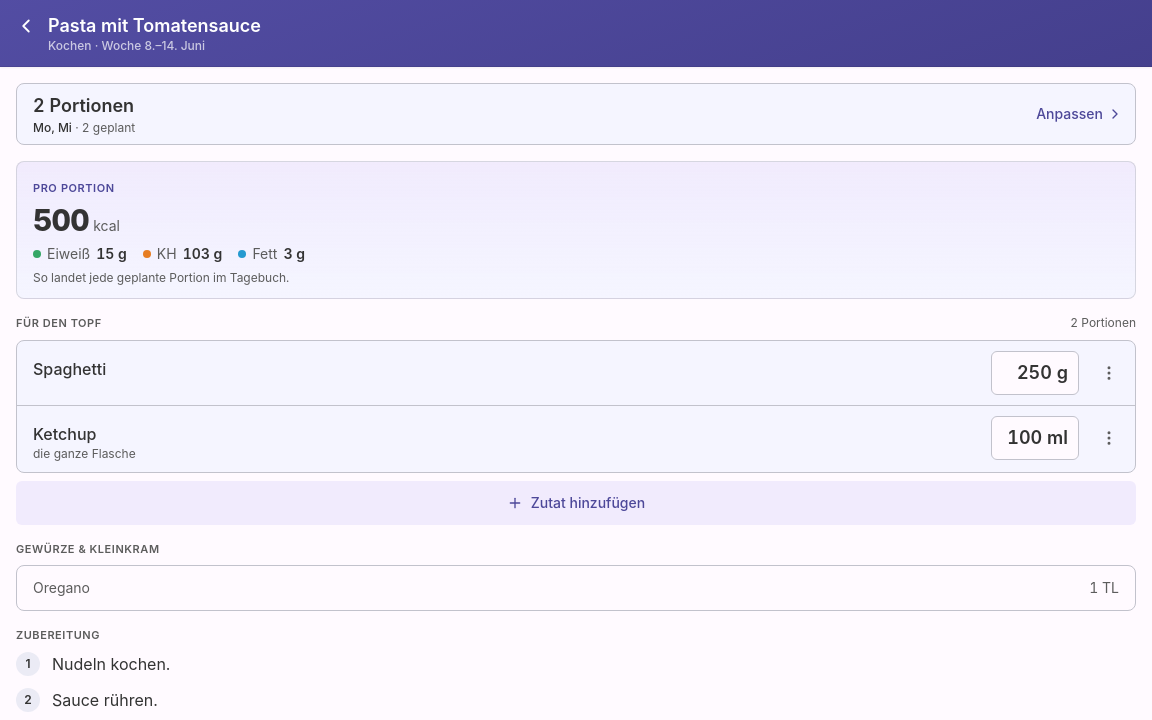
Test: CookingScreen › recomputes the pot when a meal is deselected or someone eats along
Click the button "2 Portionen Mo, Mi · 2 geplant Anpassen": {"x": 84, "y": 106} top-left (17, 84), bottom-right (1135, 144)
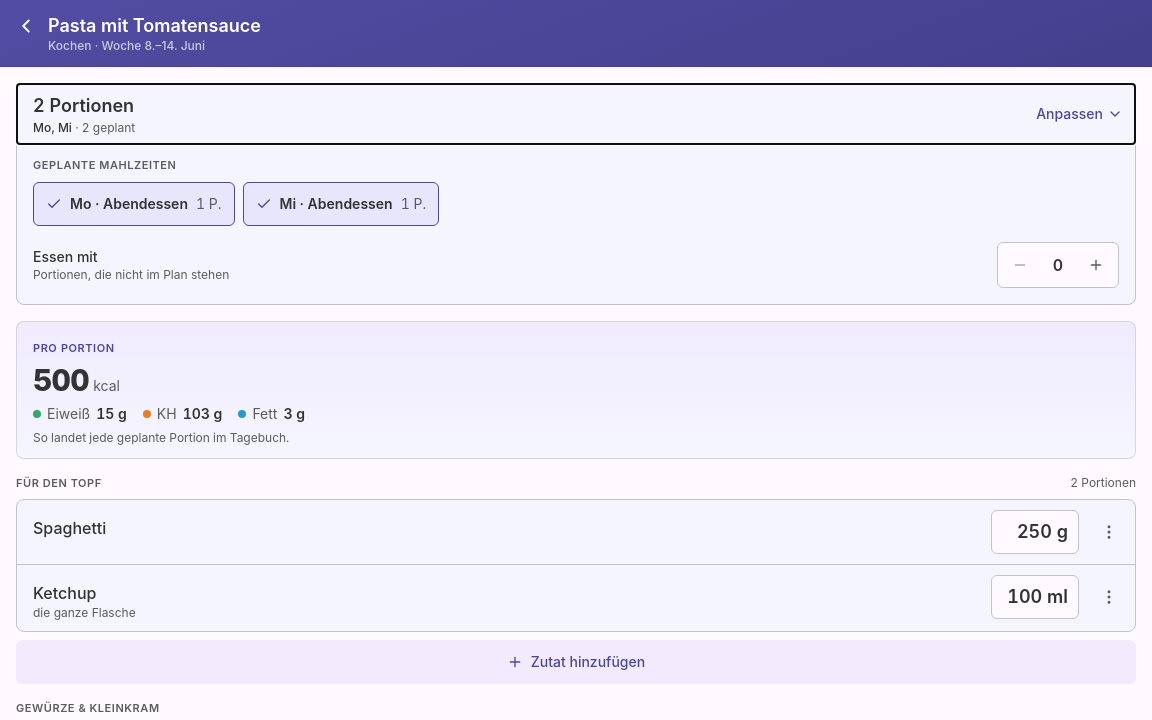
Click the button "Mo · Abendessen 1 P.": {"x": 134, "y": 204} top-left (33, 182), bottom-right (234, 226)
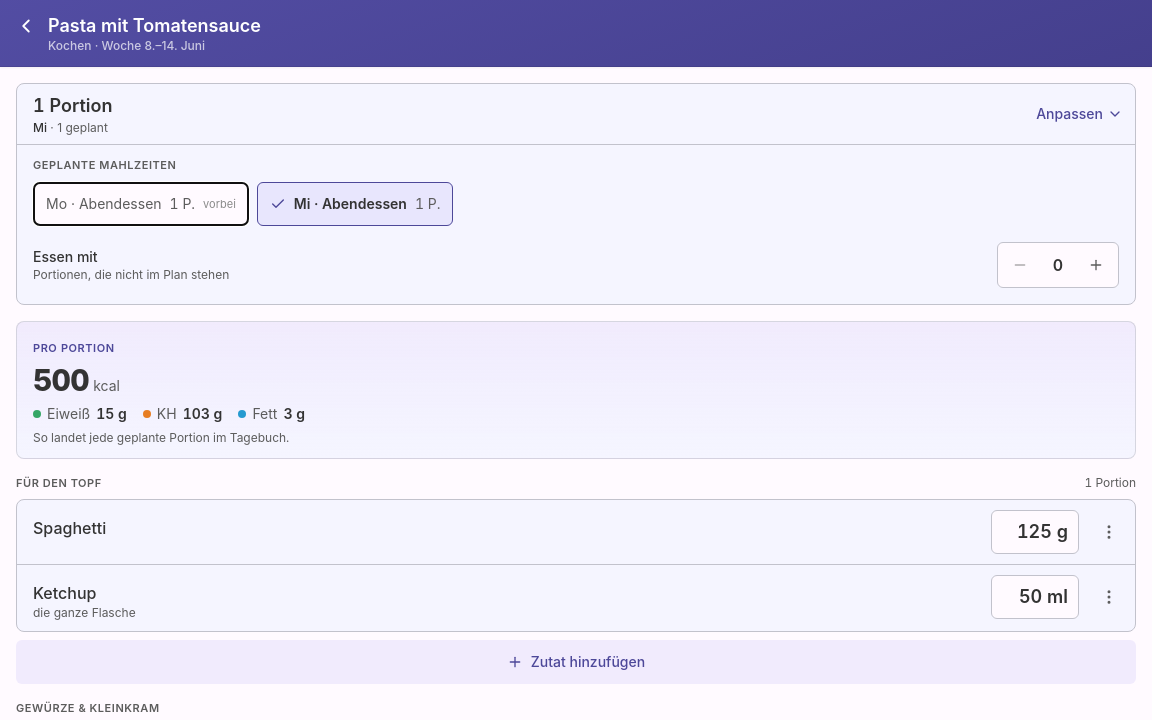
Expected: the button with aria-label "Menge von Ketchup ändern" reads "50 ml", top-left (991, 575), bottom-right (1079, 619)
Click the button named "Eine Portion mehr": {"x": 1096, "y": 264} top-left (1074, 242), bottom-right (1118, 286)
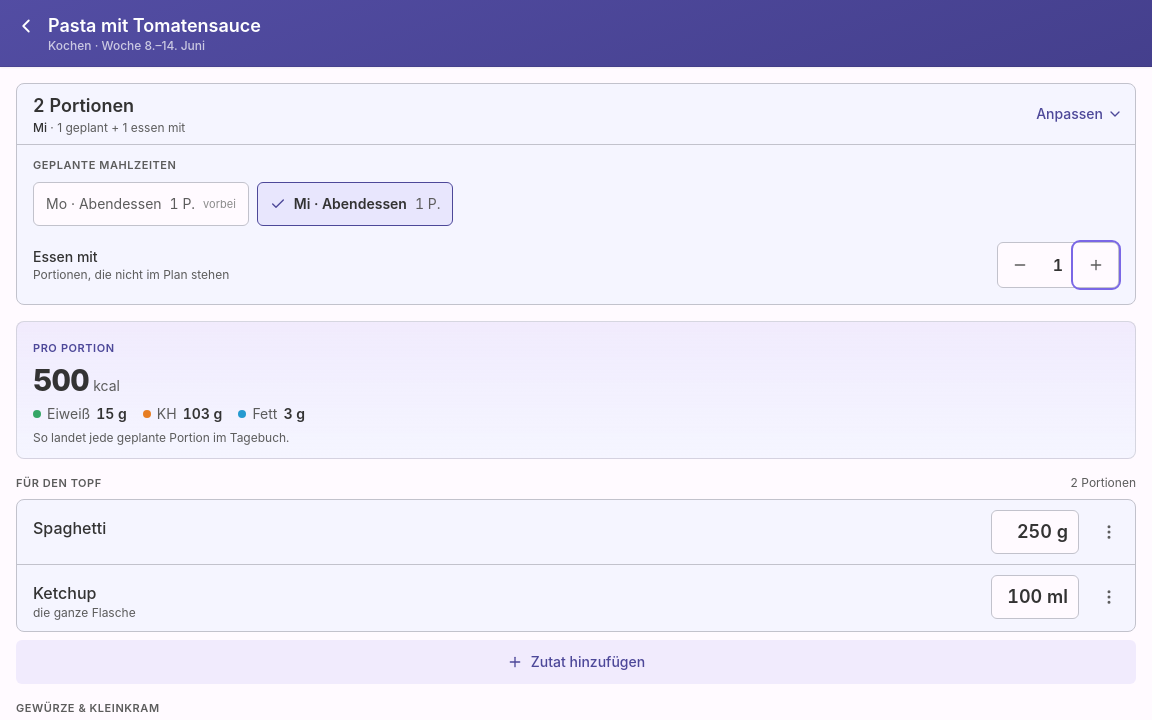
Expected: the button with aria-label "Menge von Ketchup ändern" reads "100 ml", top-left (991, 575), bottom-right (1079, 619)
